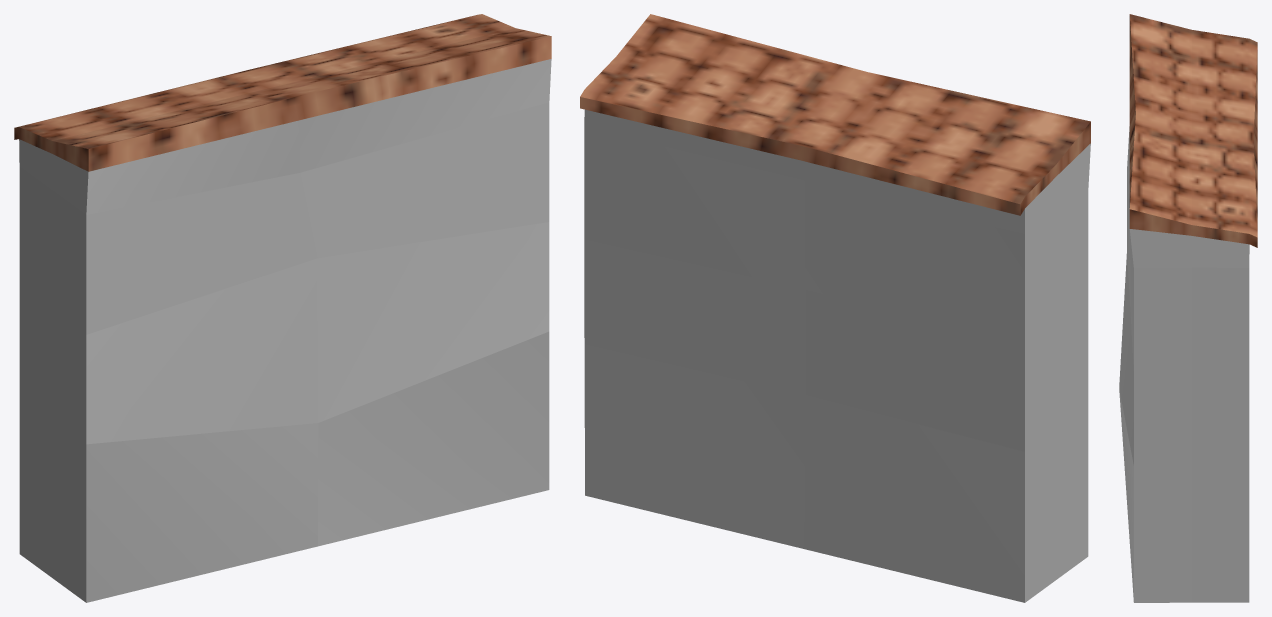
The model's file is StoneWall_Panel_HalfTileCoping_Model.fbx.
3 views of the same model, side by side, from view 1: azimuth 30°, elevation 25°; view 2: azimuth 150°, elevation 25°; view 3: azimuth 270°, elevation 25° (orthographic). The views are drawn at different scales.
Parts seen in each view (by area): view 1: Body; view 2: Body; view 3: Body.
Part boxes in pixels (x1,y1,x2,y2): Body: (14, 14, 551, 602); Body: (580, 14, 1090, 602); Body: (1119, 14, 1257, 602).
Bounding box in the file's own units: 100 × 93.98 × 30.
